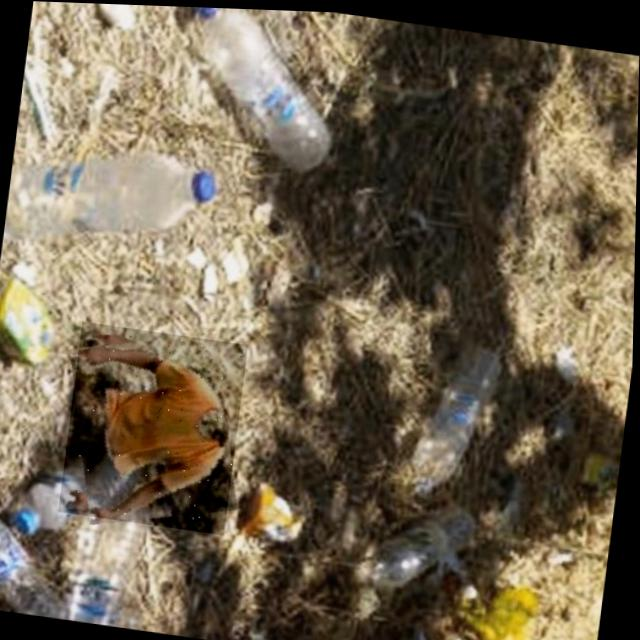Person in Rubble: (59, 320, 248, 534)
